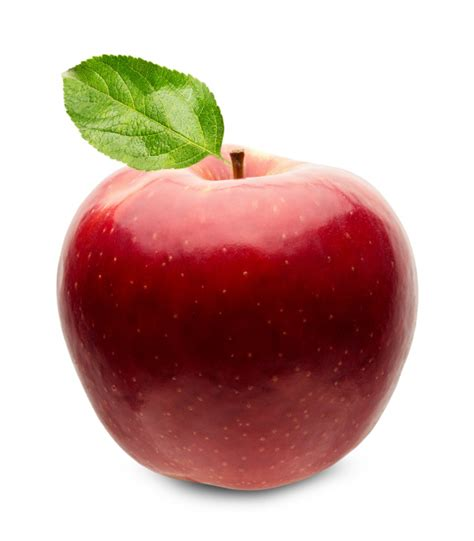apple: (53, 144, 421, 492)
